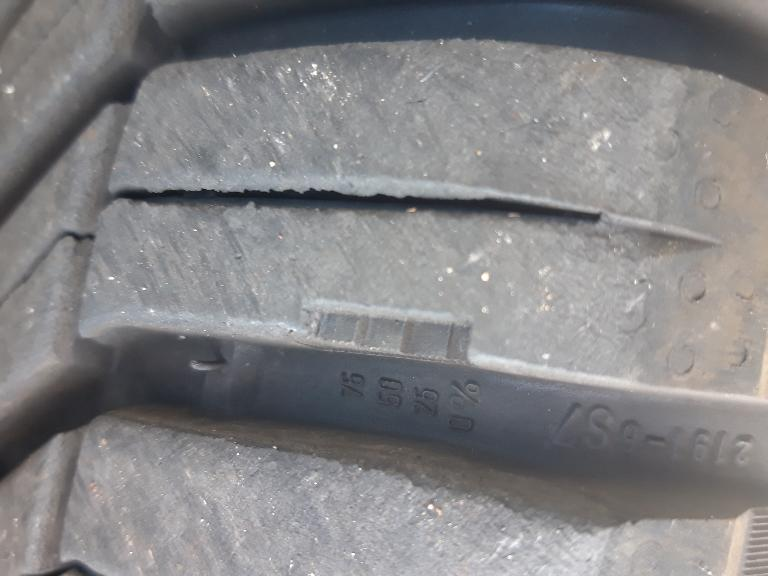temoin:90: (268, 285, 489, 383)
